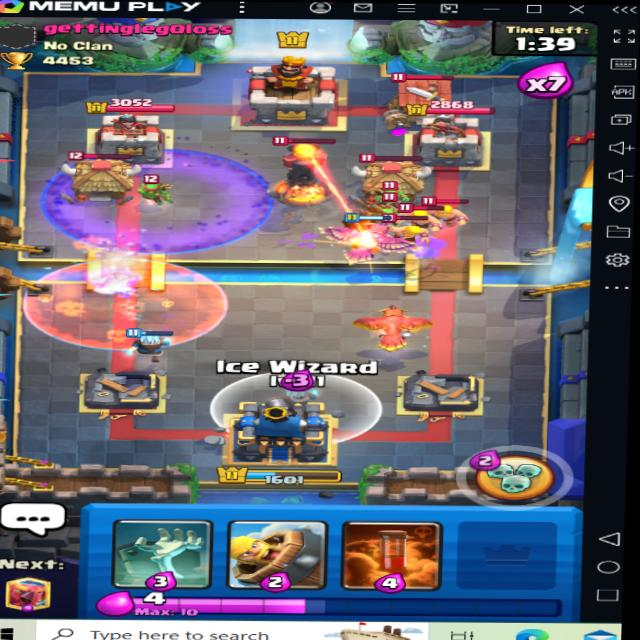barbarian: (388, 223, 436, 248), (423, 200, 464, 224), (403, 208, 443, 229)
barbarian-hut: (381, 70, 463, 122)
goblin-hut: (355, 151, 430, 205), (65, 152, 144, 200)
inferno-tower: (267, 134, 336, 201)
spear-goblin: (134, 175, 164, 203), (369, 198, 400, 219)
